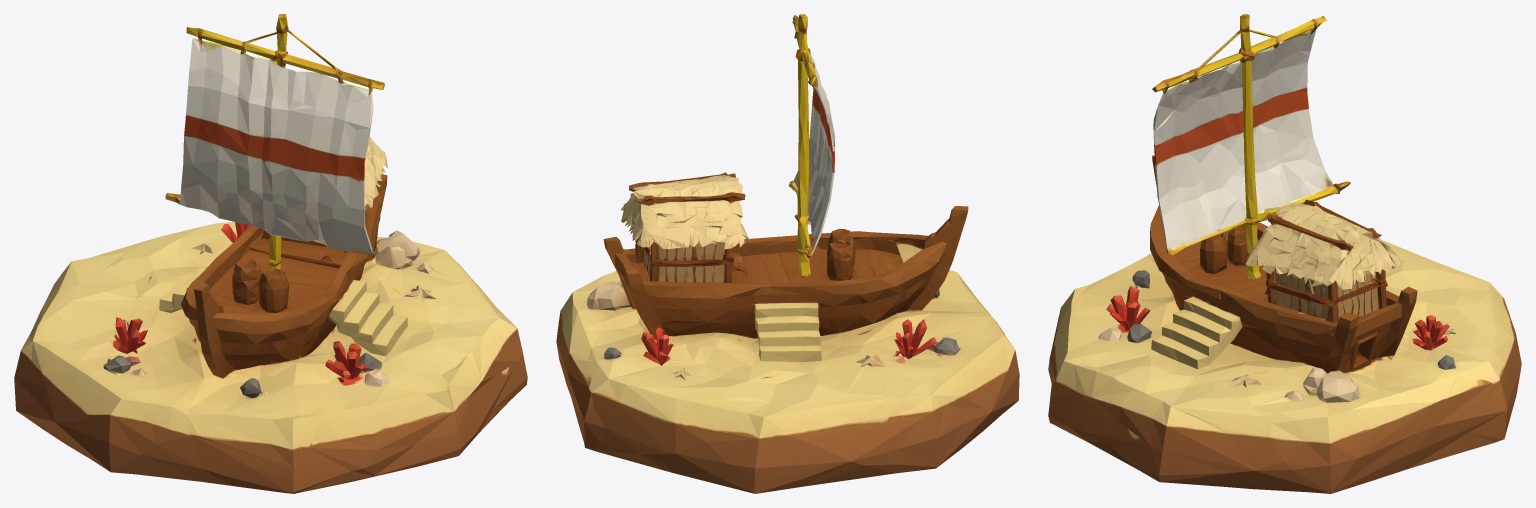
Rendered from island-boat-large.glb.
3 views of the same model, side by side, from view 1: azimuth 30°, elevation 25°; view 2: azimuth 150°, elevation 25°; view 3: azimuth 270°, elevation 25° (orthographic). The views are drawn at different scales.
Parts seen in each view (by area): view 1: tripo_node_02efb36c-5b70-4991-bcd6-e11d0d4c715d; view 2: tripo_node_02efb36c-5b70-4991-bcd6-e11d0d4c715d; view 3: tripo_node_02efb36c-5b70-4991-bcd6-e11d0d4c715d.
Part boxes in pixels (x1=…): tripo_node_02efb36c-5b70-4991-bcd6-e11d0d4c715d: x1=14, y1=14, x2=527, y2=493; tripo_node_02efb36c-5b70-4991-bcd6-e11d0d4c715d: x1=556, y1=14, x2=1019, y2=493; tripo_node_02efb36c-5b70-4991-bcd6-e11d0d4c715d: x1=1048, y1=14, x2=1521, y2=493.
Size of the model in its own units: 0.9997 by 0.8672 by 0.9762.
1 material, 1 textured.
